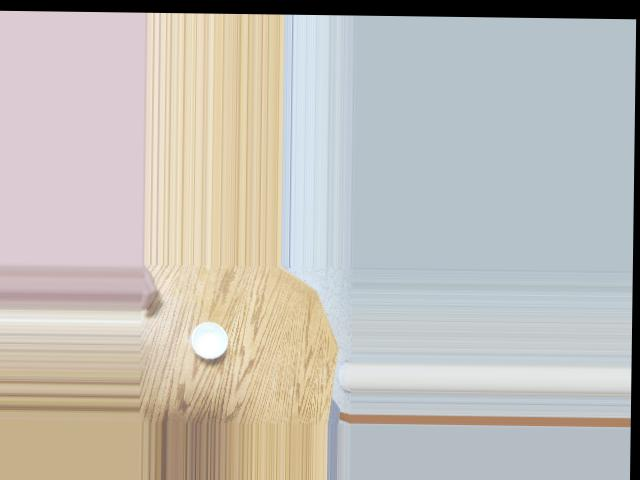cotage: (185, 317, 228, 358)
